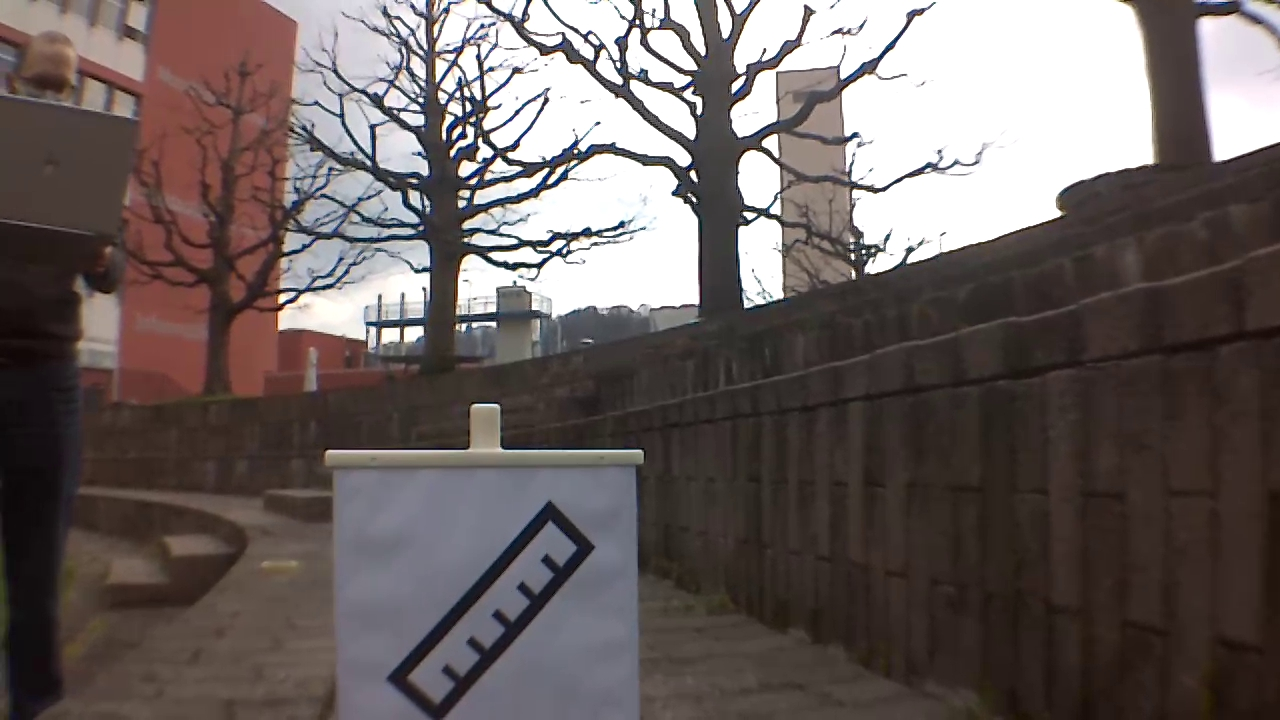ruler: (383, 495, 598, 720)
